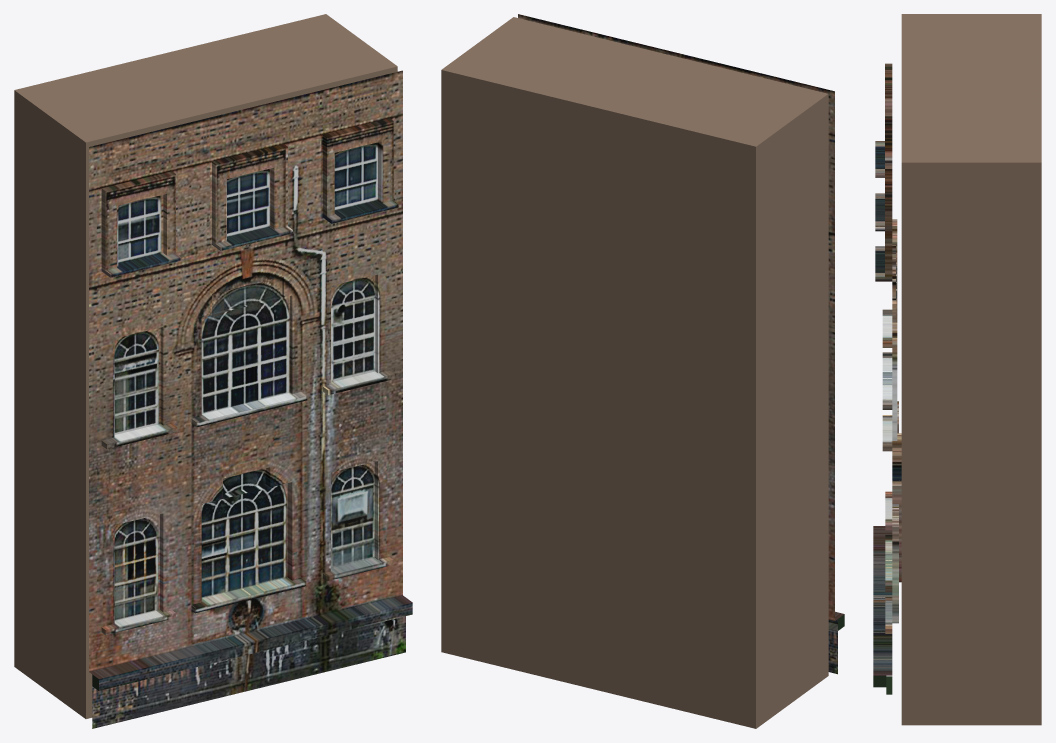
Rendered from bina2.glb.
3 renders of one model, left to right at view 1: azimuth 30°, elevation 25°; view 2: azimuth 150°, elevation 25°; view 3: azimuth 270°, elevation 25°, orthographic. The views are drawn at different scales.
Visible parts, largest first — view 1: 20_old building texture, Cube; view 2: Cube, 20_old building texture; view 3: Cube, 20_old building texture.
Boxes of the visible parts, box(x1,y1,x2,y2) form: 20_old building texture: box(89, 70, 412, 728); Cube: box(14, 14, 397, 718); Cube: box(441, 17, 828, 728); 20_old building texture: box(518, 14, 844, 674); Cube: box(901, 14, 1041, 725); 20_old building texture: box(873, 63, 901, 694).
Bounding box in the file's own units: 5.06 × 8.94 × 2.41.
Materials: 2 (1 with a texture image).
